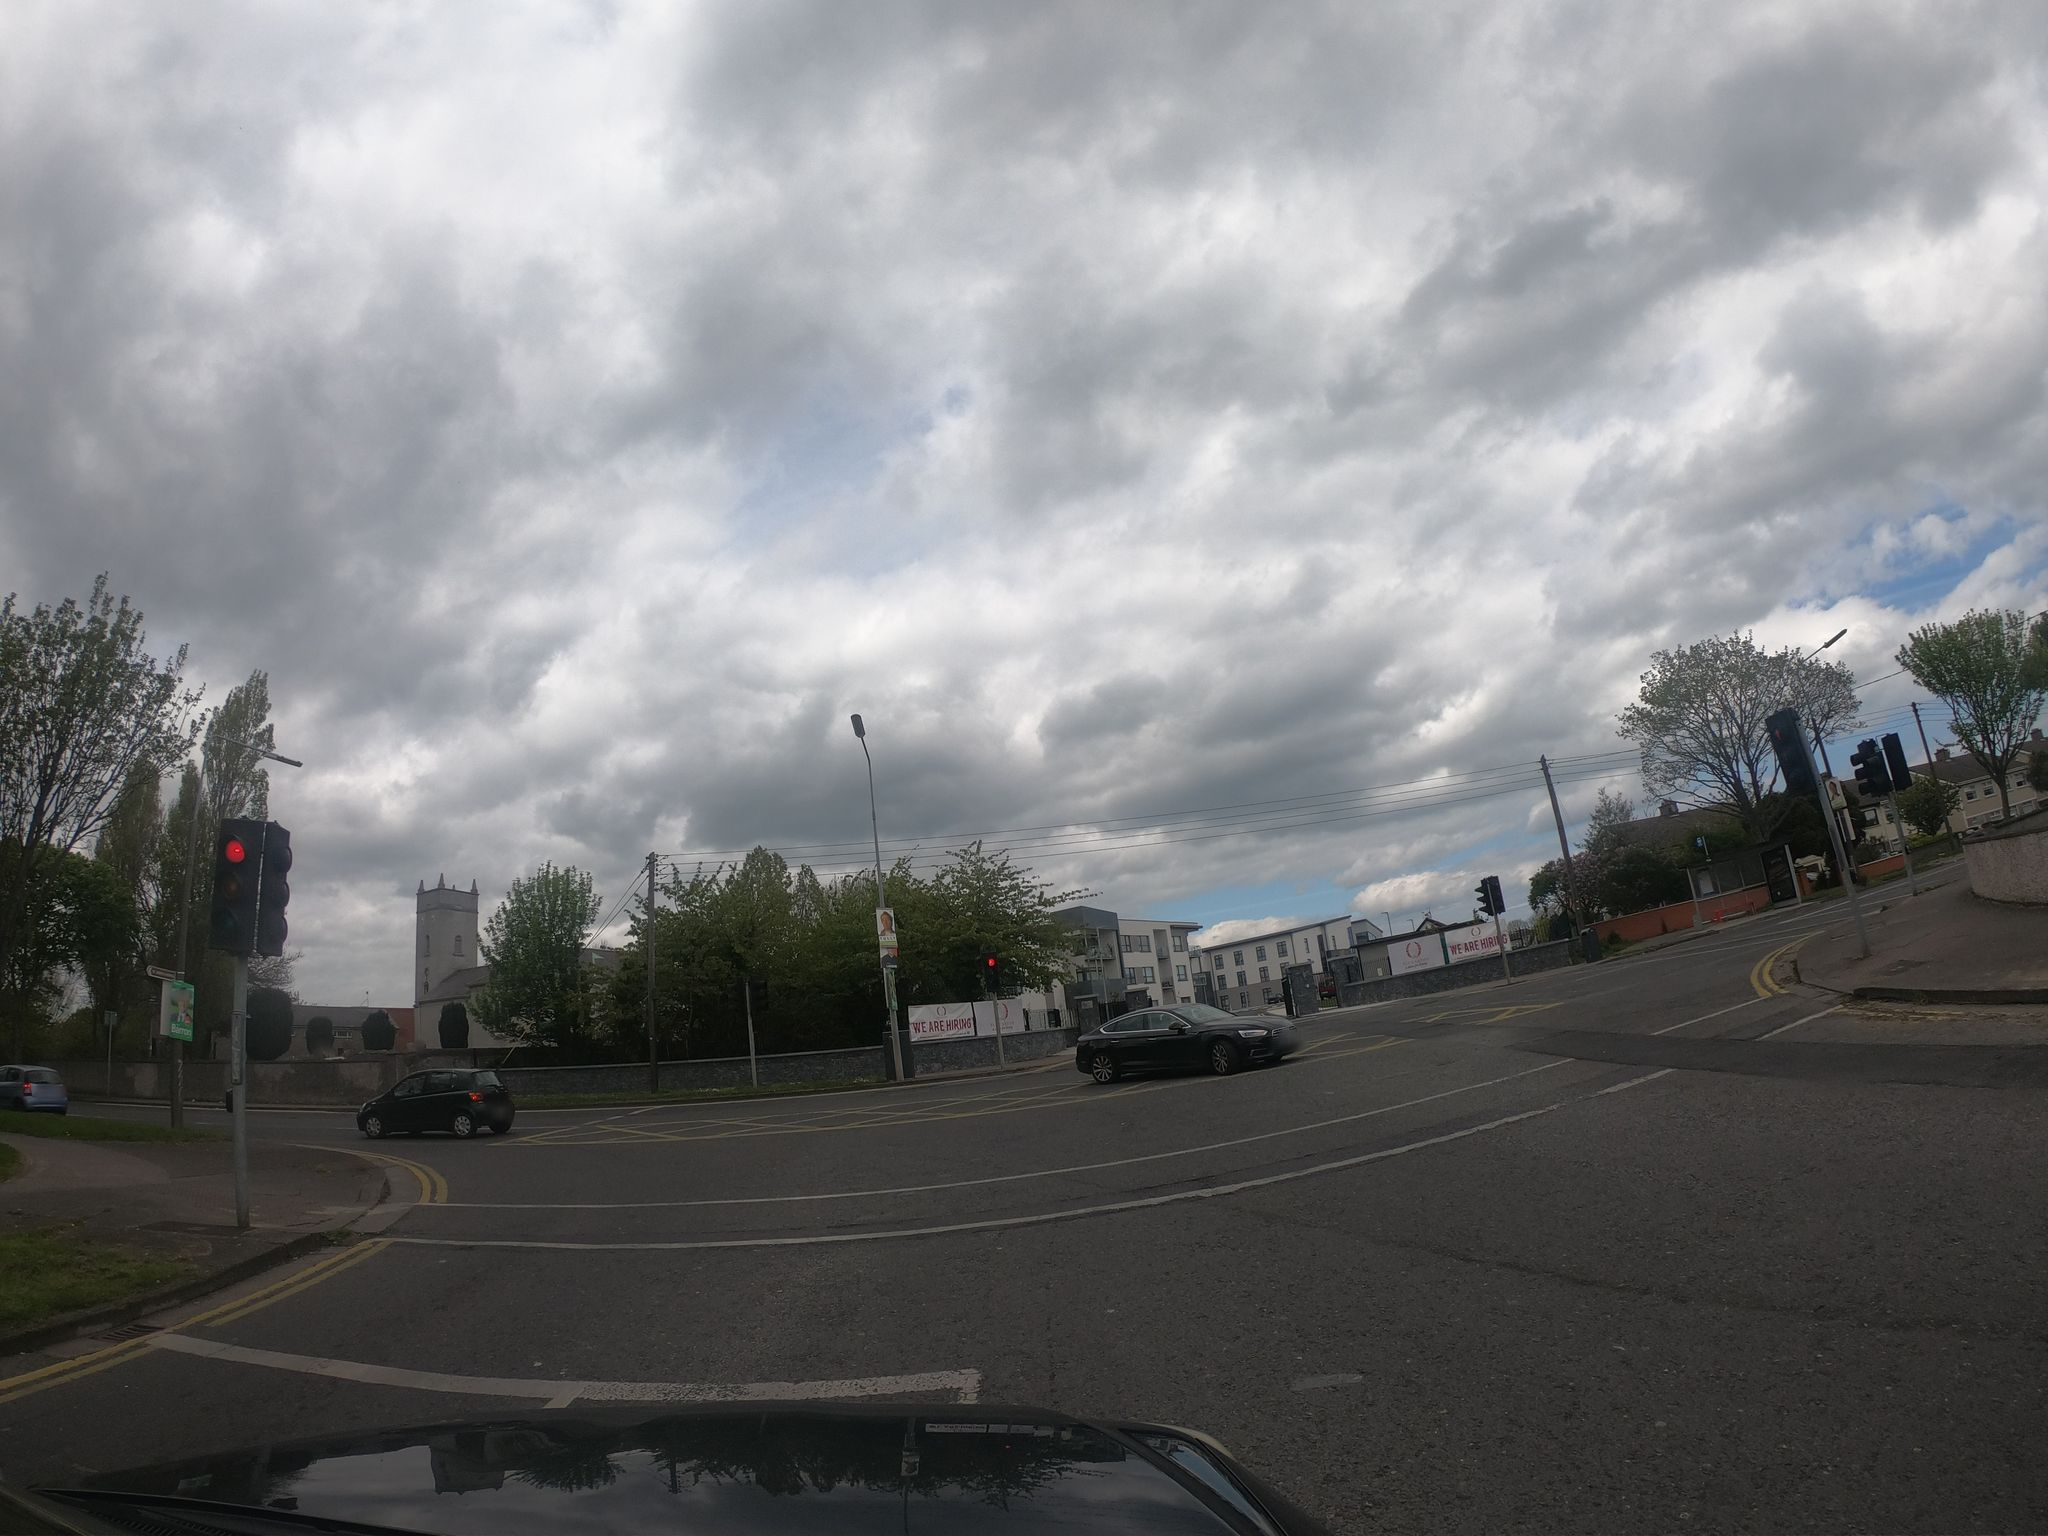vinyl banner: (889, 991, 984, 1041), (1443, 908, 1522, 966)
